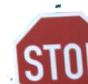Stop sign: (0, 0, 87, 83)
